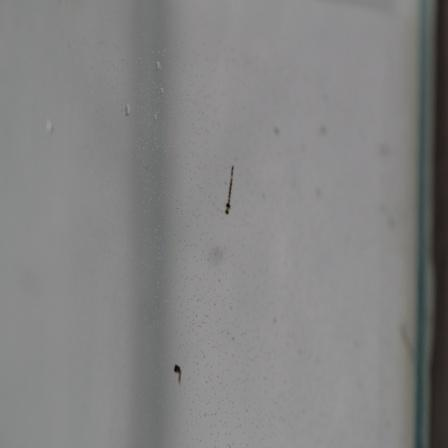Jentik-Nyamuk: (222, 161, 237, 216), (171, 360, 187, 388)
